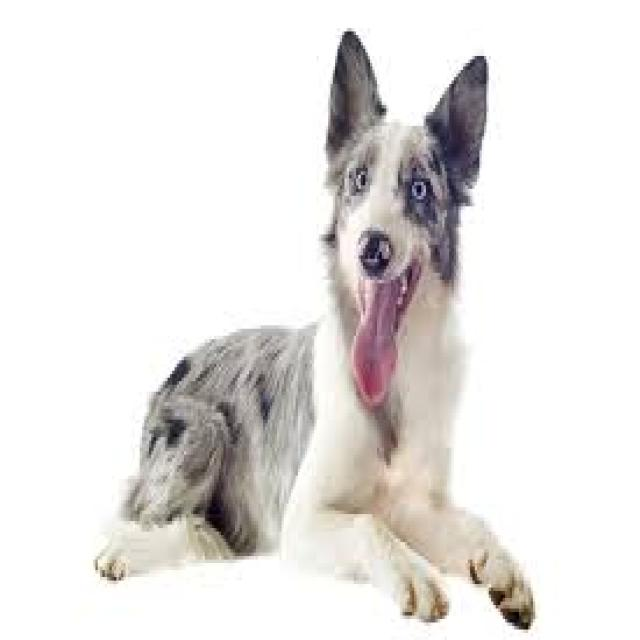BORDER_COLLIE: (94, 23, 550, 637)
